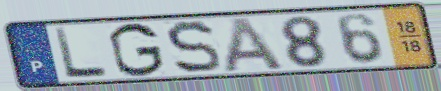6: (334, 12, 385, 66)
8: (276, 14, 329, 69)
A: (221, 15, 288, 74)
G: (106, 21, 167, 79)
L: (51, 26, 112, 81)
S: (163, 19, 224, 76)
